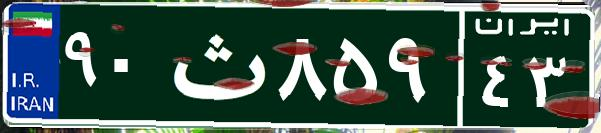0: (110, 28, 158, 105)
3: (525, 38, 570, 115)
4: (475, 38, 525, 113)
5: (330, 28, 385, 110)
8: (273, 28, 330, 110)
9: (385, 28, 445, 110), (57, 26, 110, 107)
ث: (158, 15, 273, 115)
